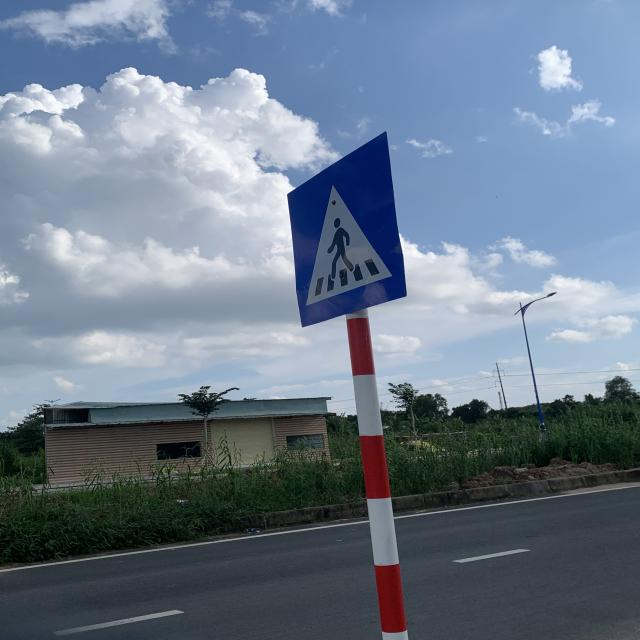Giao_Nhau_Duong_Uu_Tien: (286, 131, 410, 329)
